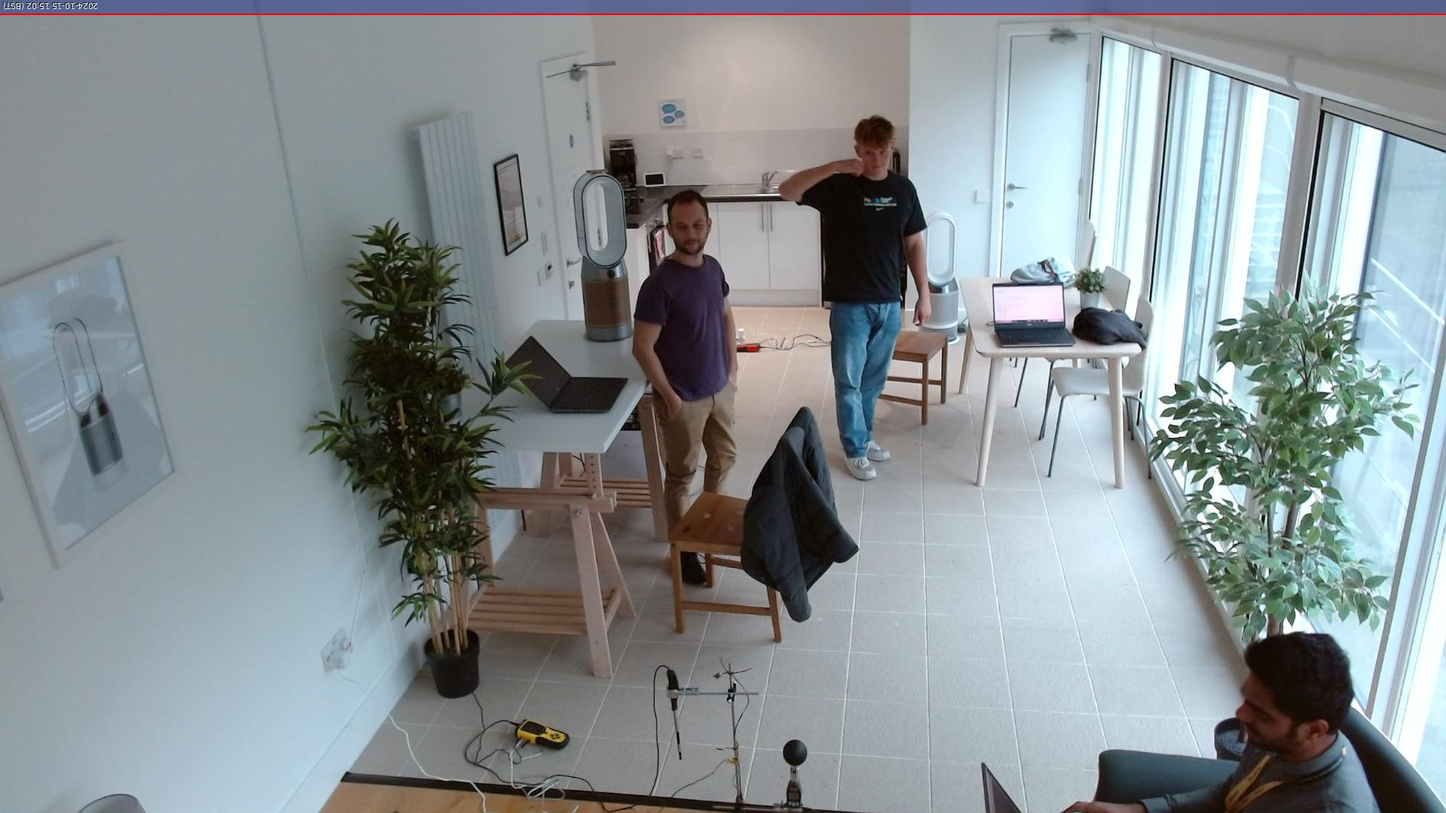long sleeve shirt: (1138, 719, 1382, 813)
short sleeve shirt: (796, 160, 931, 305), (631, 251, 734, 401)
trousers: (649, 386, 741, 553), (829, 294, 903, 456)
